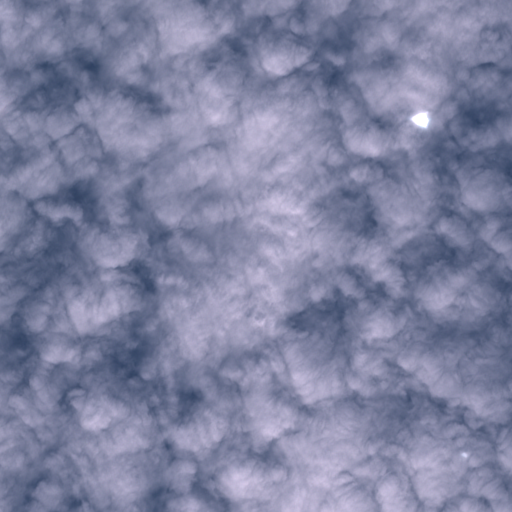Iceberg: (411, 111, 429, 127), (462, 453, 468, 457)
